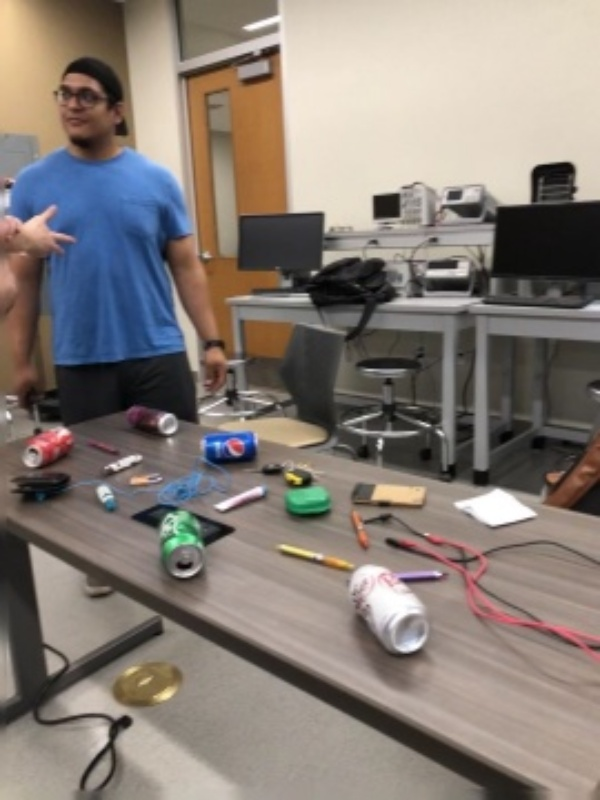can: (345, 559, 435, 657), (156, 508, 210, 582), (21, 420, 75, 471), (197, 428, 261, 468), (124, 397, 180, 437)
